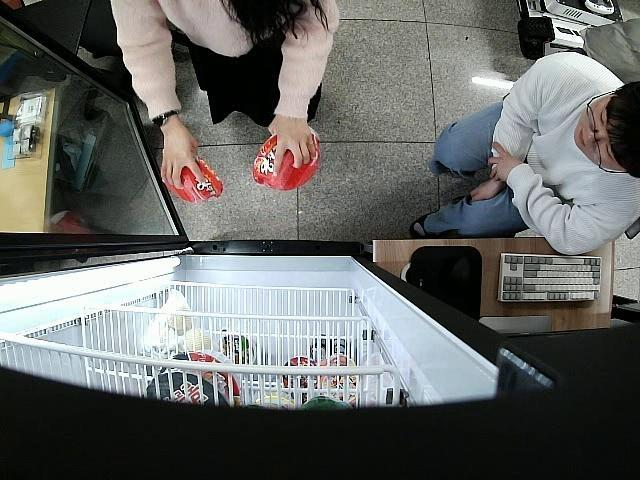10_wangTtukkeong: (254, 128, 322, 192), (162, 149, 224, 202)
